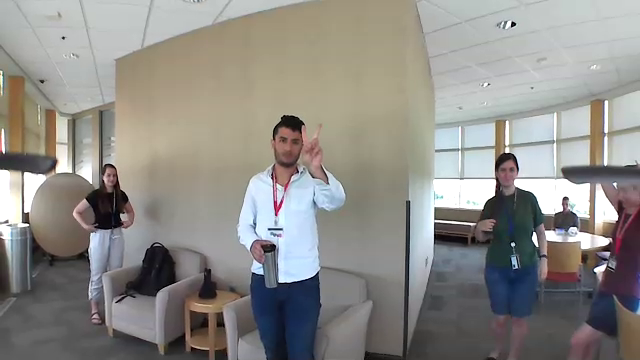peace: (292, 110, 326, 168)
